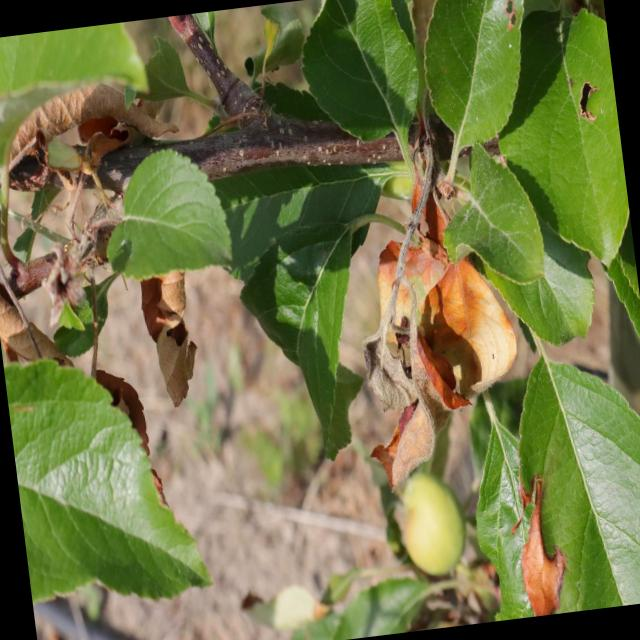-FireBlight-: (370, 132, 520, 412), (0, 137, 115, 360), (128, 271, 217, 408), (510, 476, 584, 617)
